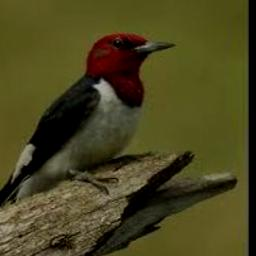Woodpecker: (0, 33, 176, 209)
